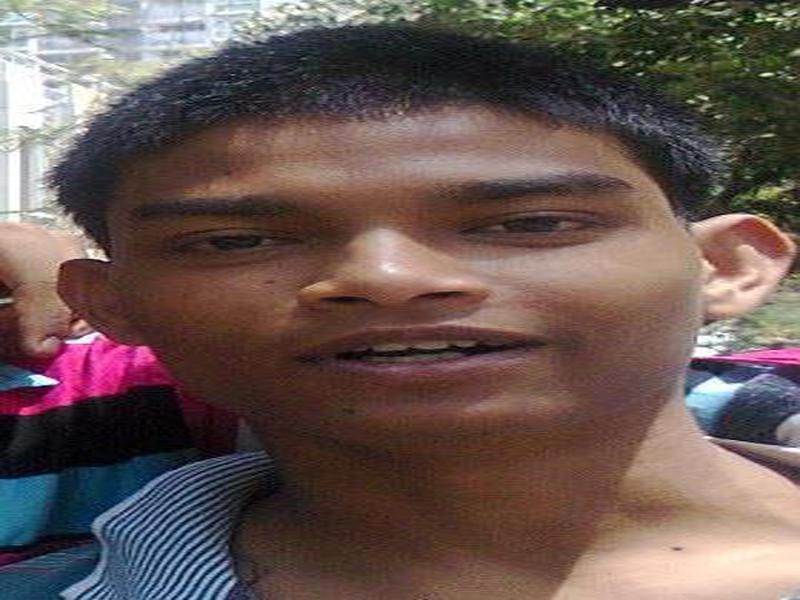without_mask: (108, 142, 700, 444)
